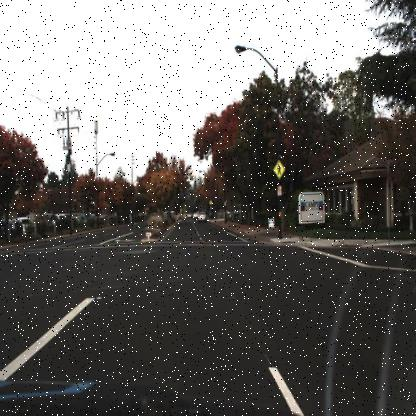car: (196, 209, 208, 224)
